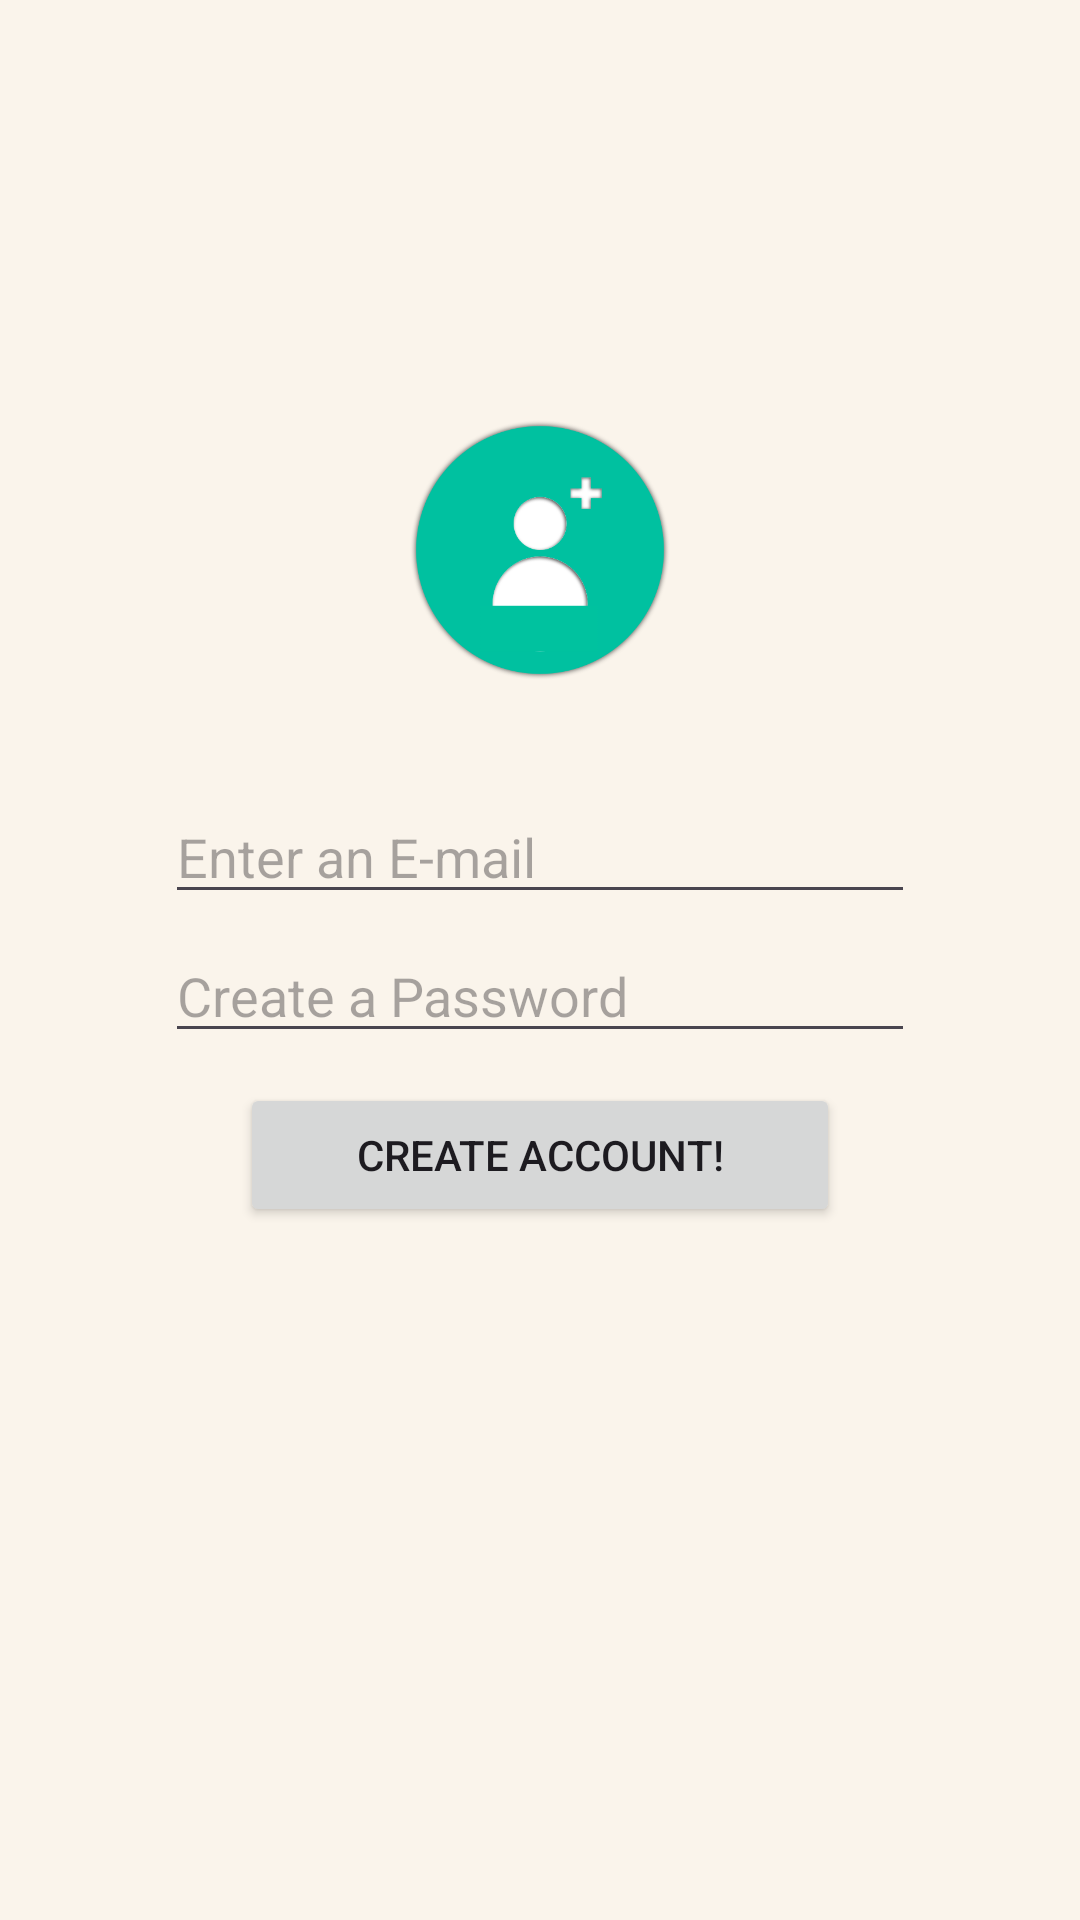

Icons on this 1080px×1920px Android screen, each with the point to tap as [x,y]:
usr: [540,550]
